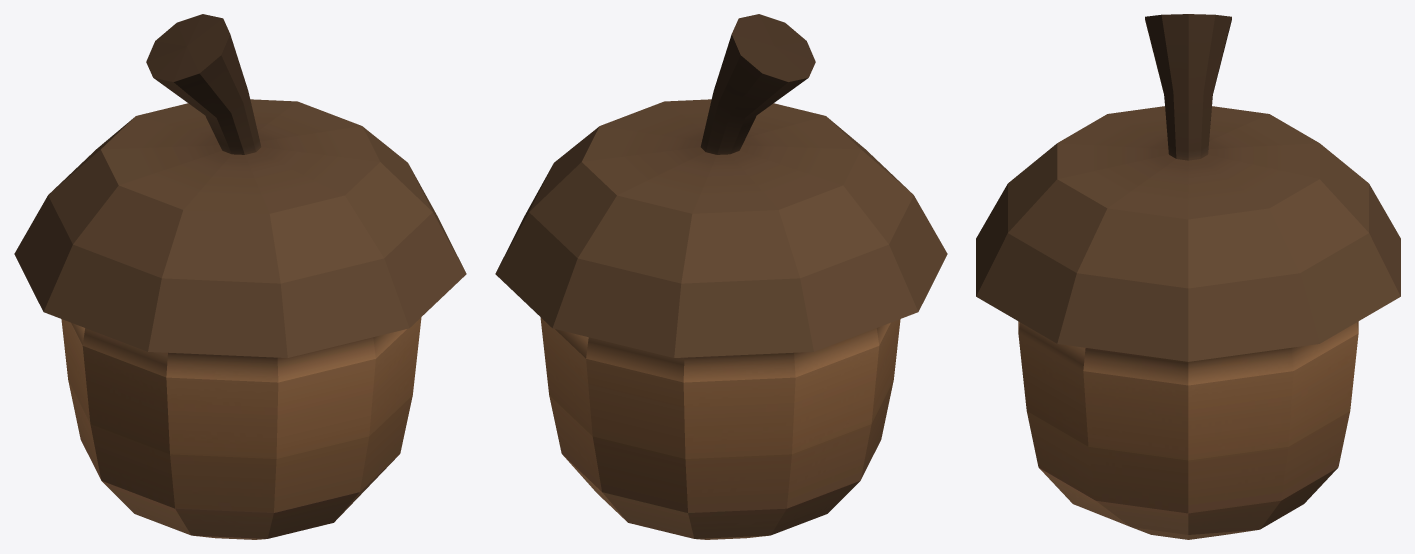
The model's file is bellota.fbx.
3 views of the same model, side by side, from view 1: azimuth 30°, elevation 25°; view 2: azimuth 150°, elevation 25°; view 3: azimuth 270°, elevation 25° (orthographic).
Visible parts, largest first — view 1: pSphere1; view 2: pSphere1; view 3: pSphere1.
Boxes of the visible parts, box(x1,y1,x2,y2) form: pSphere1: box(14, 14, 466, 539); pSphere1: box(495, 14, 947, 539); pSphere1: box(976, 14, 1400, 539).
Size of the model in its own units: 2.22 by 2.76 by 2.12.
